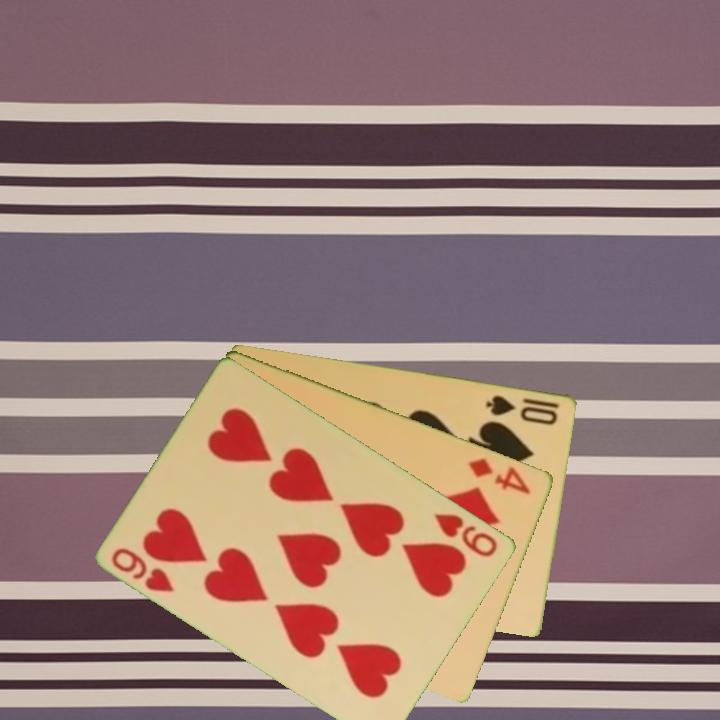10s: (483, 391, 563, 428)
4d: (465, 454, 535, 497)
9h: (108, 543, 178, 596), (431, 509, 501, 560)
